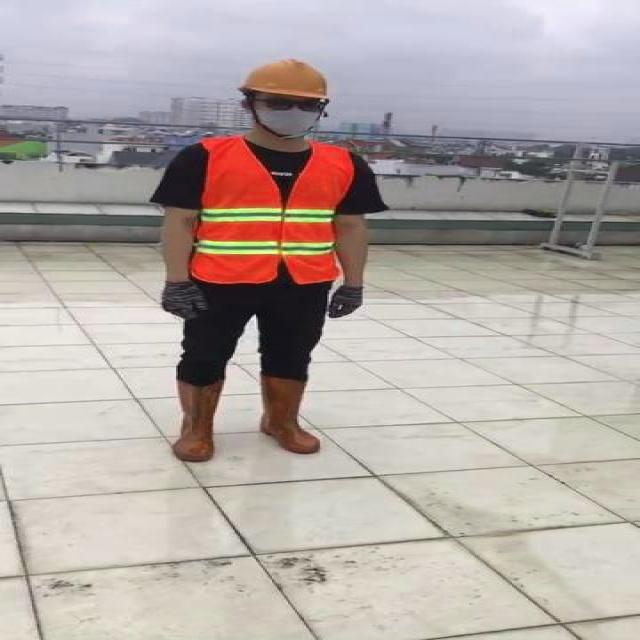boots: (163, 377, 230, 463), (256, 378, 324, 455)
face_mask: (254, 95, 326, 136)
glasses: (255, 95, 330, 116)
hand_glove: (156, 282, 206, 319), (326, 284, 364, 319)
head_helmet: (238, 57, 338, 101)
person: (148, 56, 388, 473)
vest: (187, 141, 352, 286)
